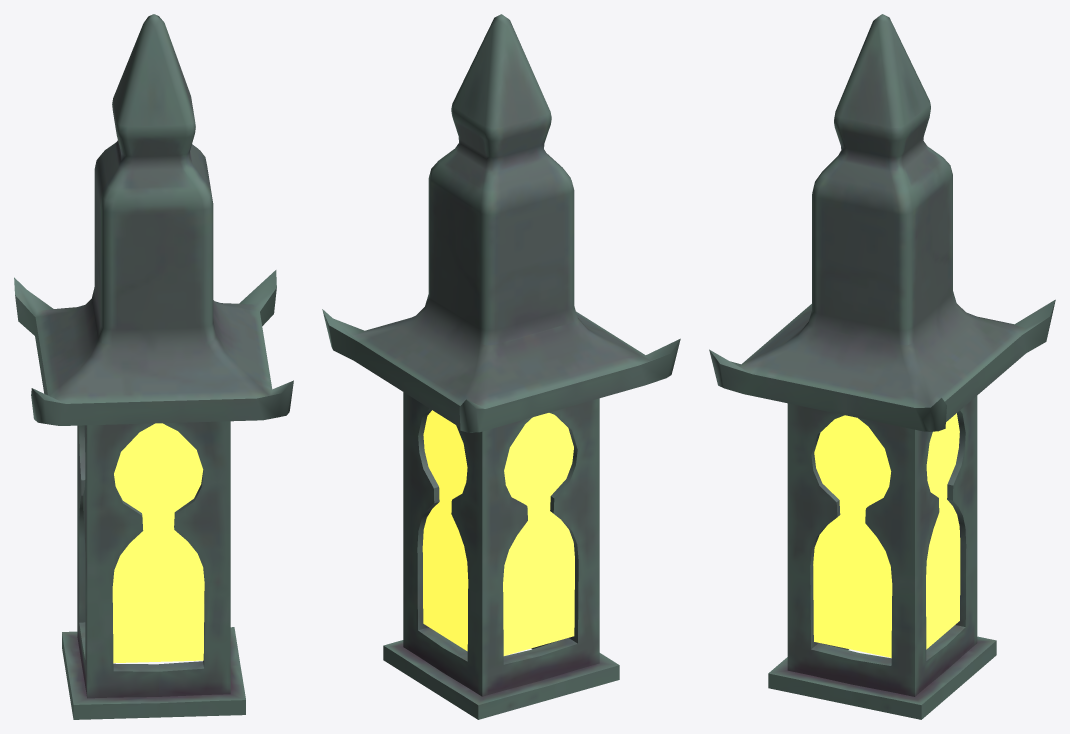
The model's file is Lantern_SmallPlaceable(4).fbx.
3 views of the same model, side by side, from view 1: azimuth 30°, elevation 25°; view 2: azimuth 150°, elevation 25°; view 3: azimuth 270°, elevation 25° (orthographic).
Parts seen in each view (by area): view 1: tallLampPart17__2_, tallLampPart4__2_, tallLampPart16__2_; view 2: tallLampPart17__2_, tallLampPart4__2_, tallLampPart16__2_; view 3: tallLampPart17__2_, tallLampPart4__2_, tallLampPart16__2_.
Part boxes in pixels (box(x1,y1,x2,y2)): tallLampPart17__2_: box(14, 14, 293, 425); tallLampPart4__2_: box(62, 421, 245, 719); tallLampPart16__2_: box(112, 423, 204, 663); tallLampPart17__2_: box(322, 14, 680, 432); tallLampPart4__2_: box(383, 392, 619, 719); tallLampPart16__2_: box(422, 410, 574, 655); tallLampPart17__2_: box(709, 14, 1055, 431); tallLampPart4__2_: box(768, 396, 996, 719); tallLampPart16__2_: box(813, 413, 960, 657).
Bounding box in the file's own units: 157 × 328 × 157.
